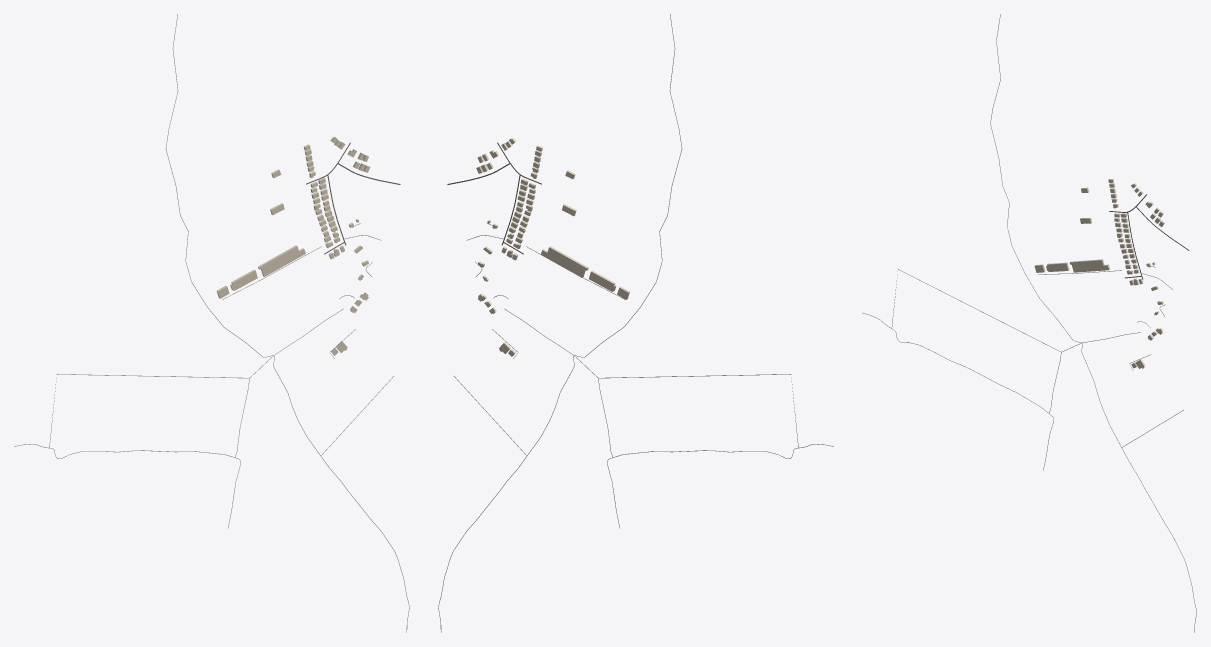
Rendered from historic-palestine-06_24_3475_3185.glb.
The picture shows the model from 3 angles, left to right: view 1: azimuth 30°, elevation 25°; view 2: azimuth 150°, elevation 25°; view 3: azimuth 330°, elevation 25°; orthographic projection. The views are drawn at different scales.
Visible parts, largest first — view 1: Building_.052; view 2: Building_.052; view 3: no part large enough to name.
Part boxes in pixels (x1,y1,x2,y2): Building_.052: [258, 245, 305, 276]; Building_.052: [540, 246, 588, 277].
Size of the model in its own units: 1259 by 2053 by 8.7.
